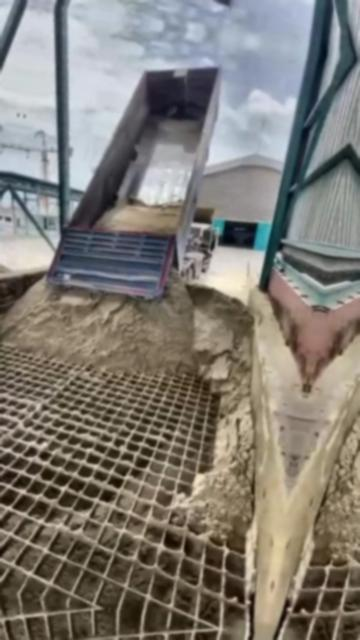sand: (0, 274, 253, 547), (95, 198, 181, 234)
